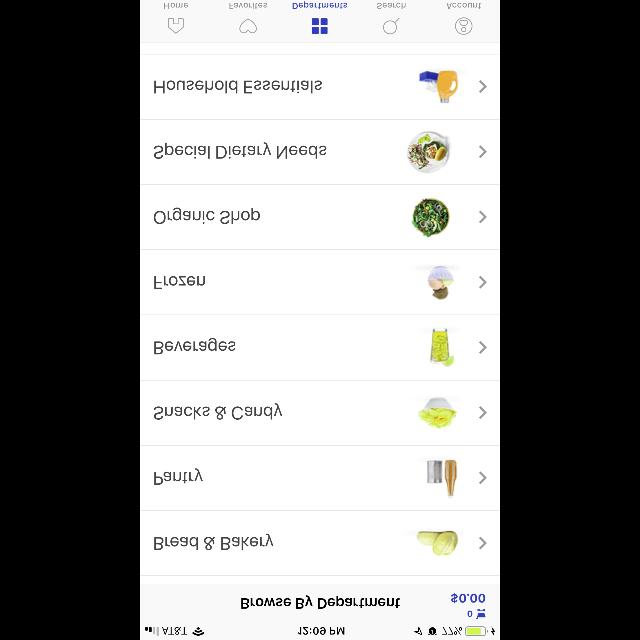icon: (382, 18, 400, 34), (168, 18, 184, 34), (240, 18, 256, 34), (312, 18, 328, 34), (456, 18, 472, 34), (476, 608, 486, 620), (479, 536, 487, 550), (479, 406, 487, 419), (479, 341, 487, 354), (479, 210, 487, 223), (479, 472, 487, 484), (479, 276, 487, 288), (479, 146, 487, 158), (479, 80, 487, 92)
image: (406, 130, 449, 173), (412, 198, 451, 238), (419, 70, 459, 104), (418, 397, 458, 429), (427, 459, 458, 498), (416, 530, 458, 556), (430, 328, 454, 368), (428, 264, 454, 300)
text: (154, 142, 326, 160), (154, 80, 322, 94), (154, 402, 282, 420), (154, 534, 274, 550), (242, 596, 400, 608), (154, 208, 260, 225), (154, 338, 236, 354), (154, 468, 203, 484), (154, 276, 206, 290), (292, 1, 348, 9), (451, 593, 485, 603), (229, 2, 267, 10), (377, 2, 405, 10), (446, 3, 482, 9), (164, 3, 188, 9), (468, 610, 472, 616)
uppertaskbar: (140, 626, 500, 640)
